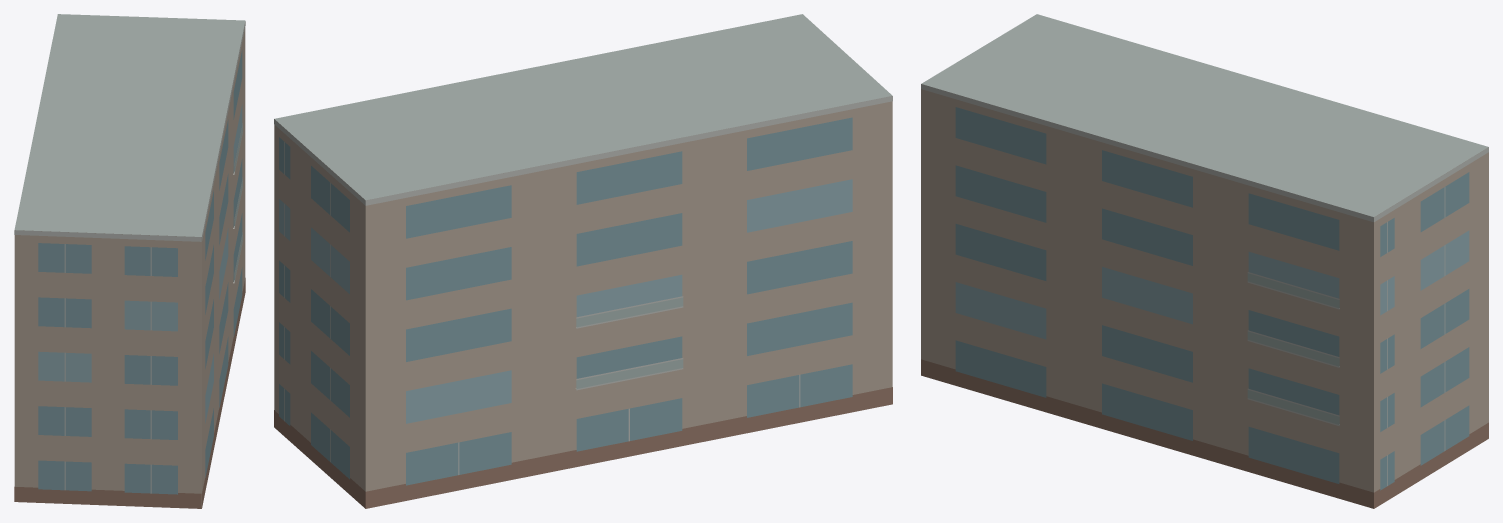
File: survey-upis-33002381.glb
3 views of the same model, side by side, from view 1: azimuth 30°, elevation 25°; view 2: azimuth 150°, elevation 25°; view 3: azimuth 270°, elevation 25° (orthographic). The views are drawn at different scales.
Visible parts, largest first — view 1: survey-upis-33002381.tmp; view 2: survey-upis-33002381.tmp; view 3: survey-upis-33002381.tmp.
Part boxes in pixels (x1=…): survey-upis-33002381.tmp: x1=14, y1=14, x2=245, y2=508; survey-upis-33002381.tmp: x1=274, y1=14, x2=892, y2=508; survey-upis-33002381.tmp: x1=921, y1=14, x2=1488, y2=508.
Size of the model in its own units: 20.55 by 13.75 by 24.26.
